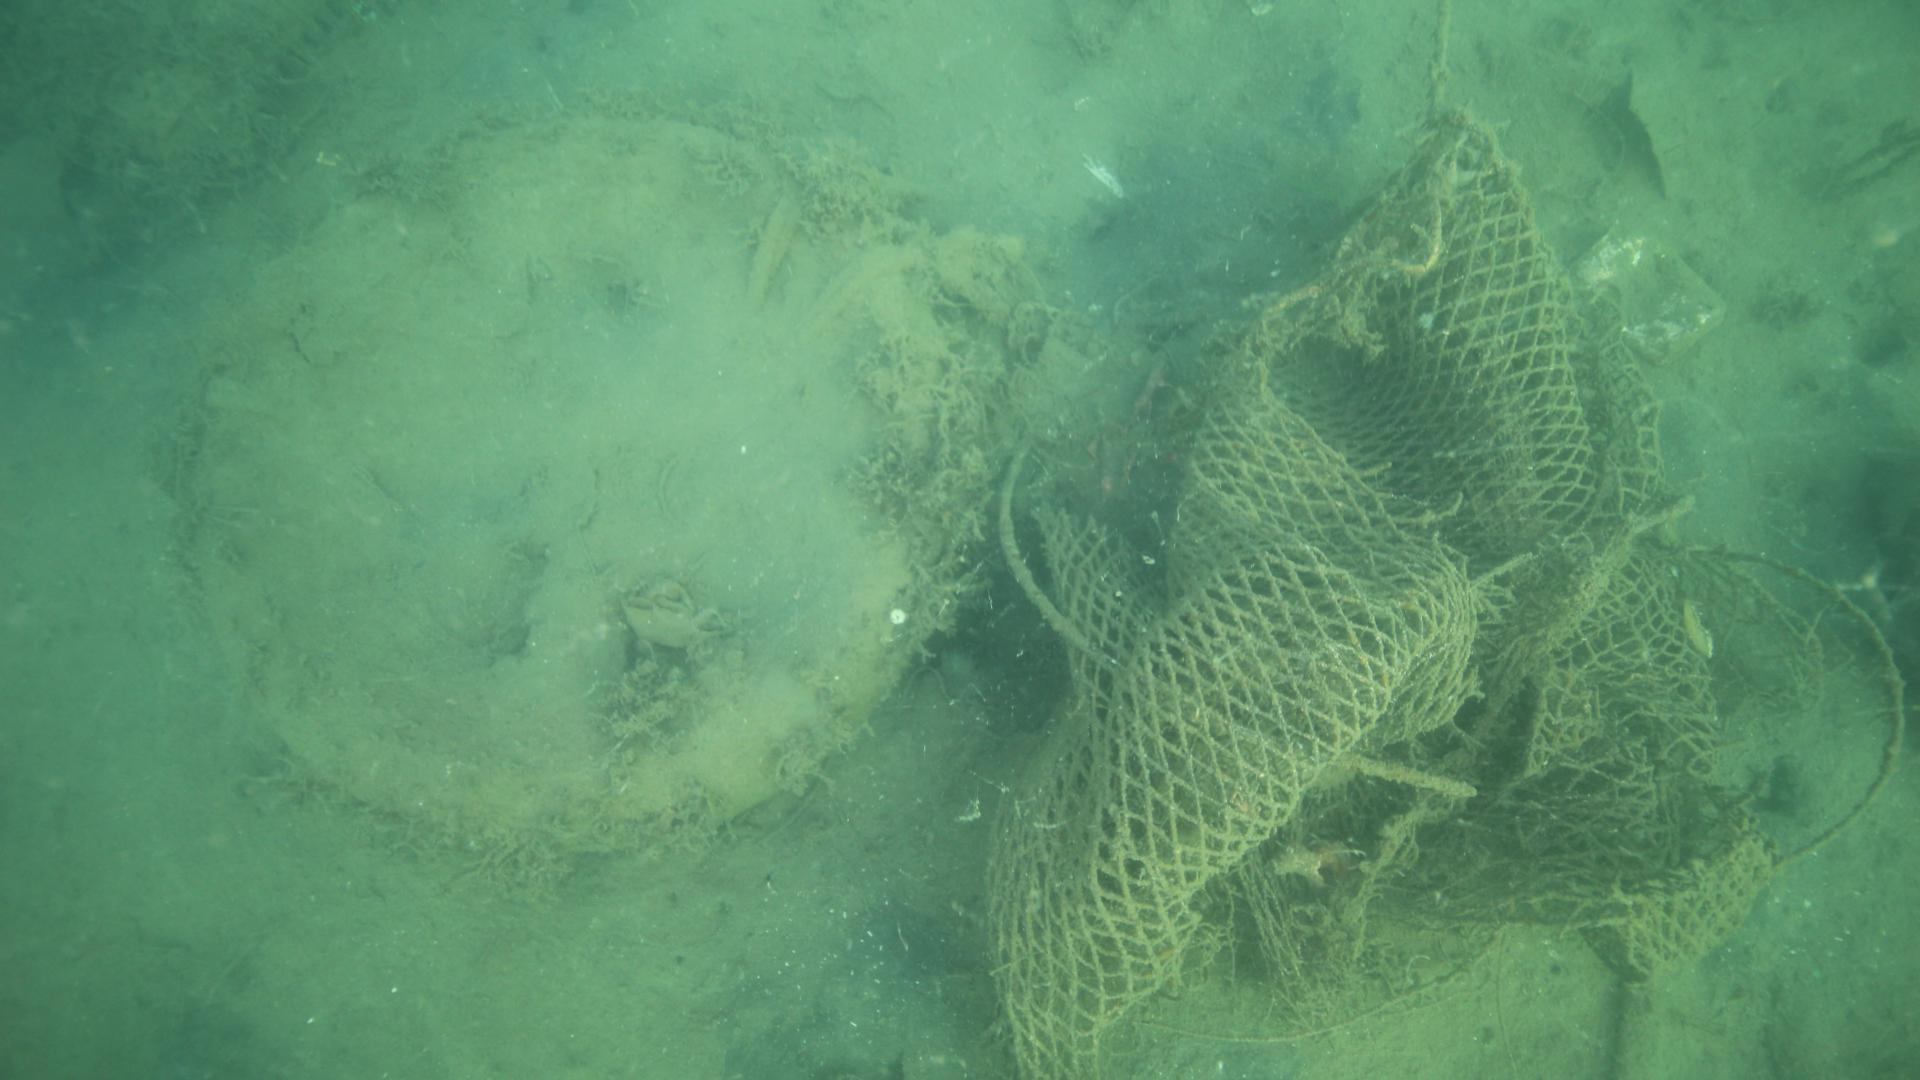fish net: (980, 119, 1782, 1080)
